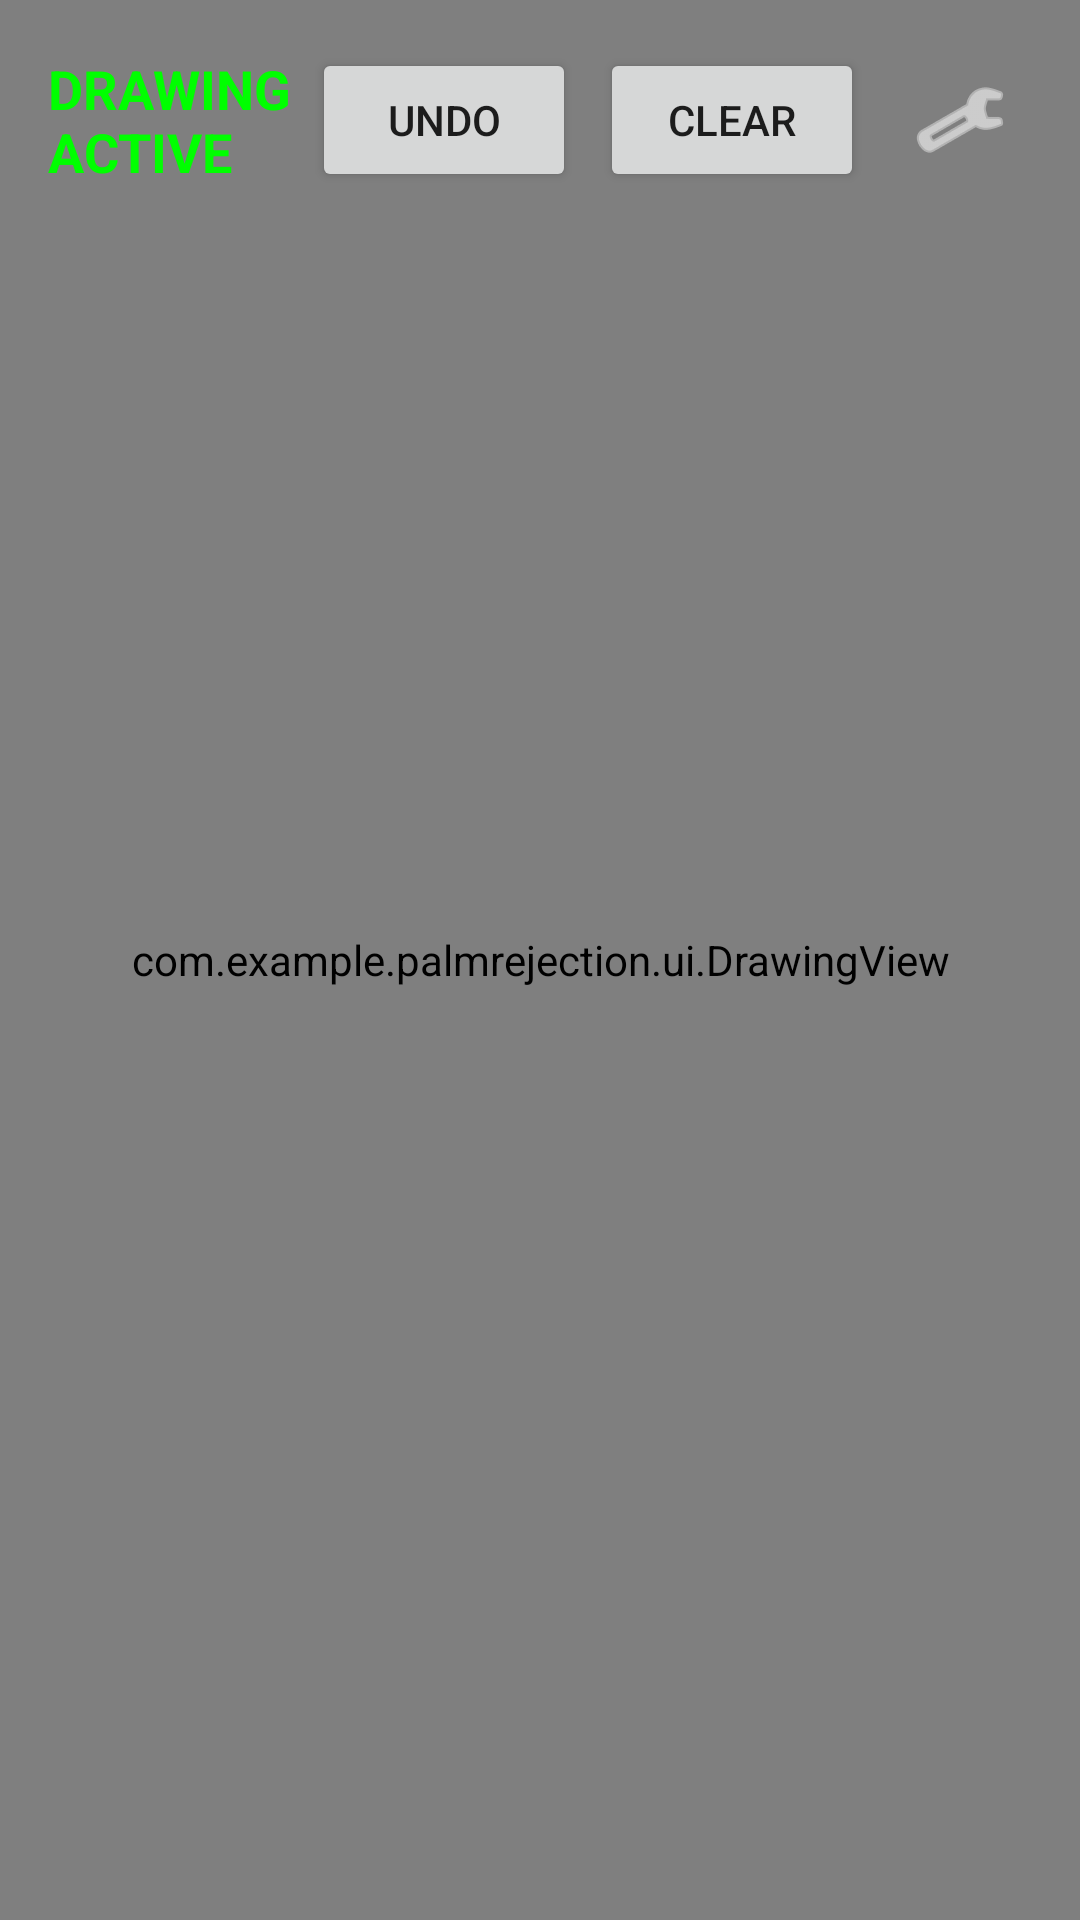

Point at icon controls on the screen. Image size 1080px×1920px, points as (x,y).
Settings: (960,120)
